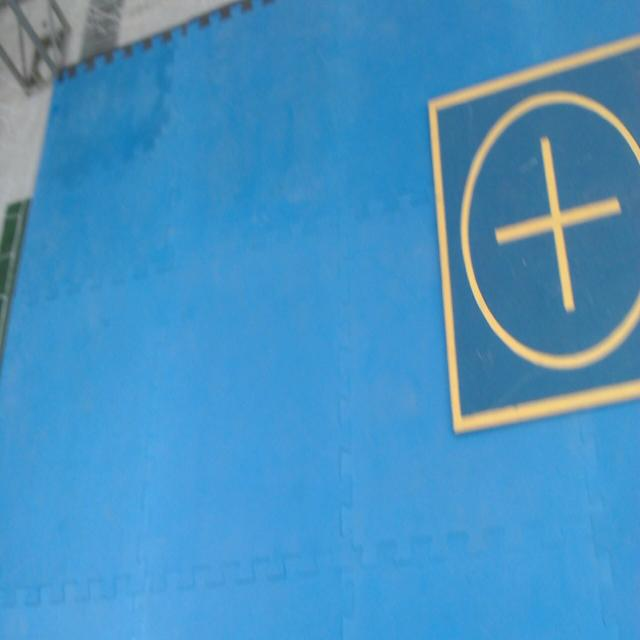base_pouso: (429, 33, 640, 434)
